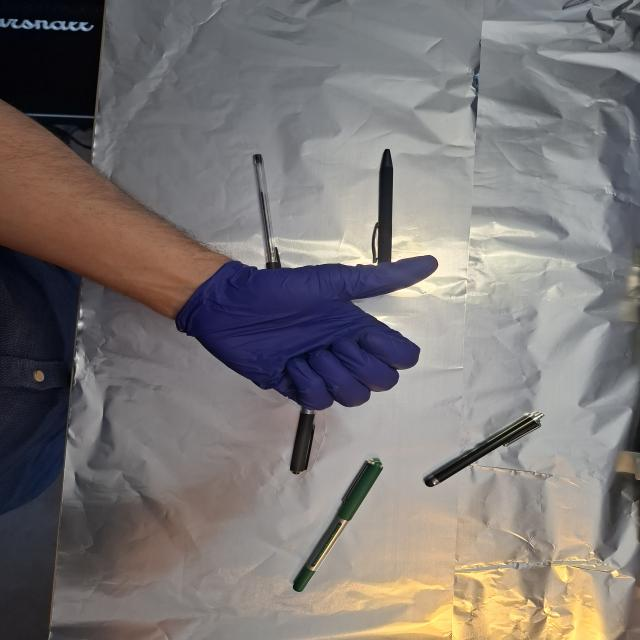glove_on: (178, 253, 441, 413)
